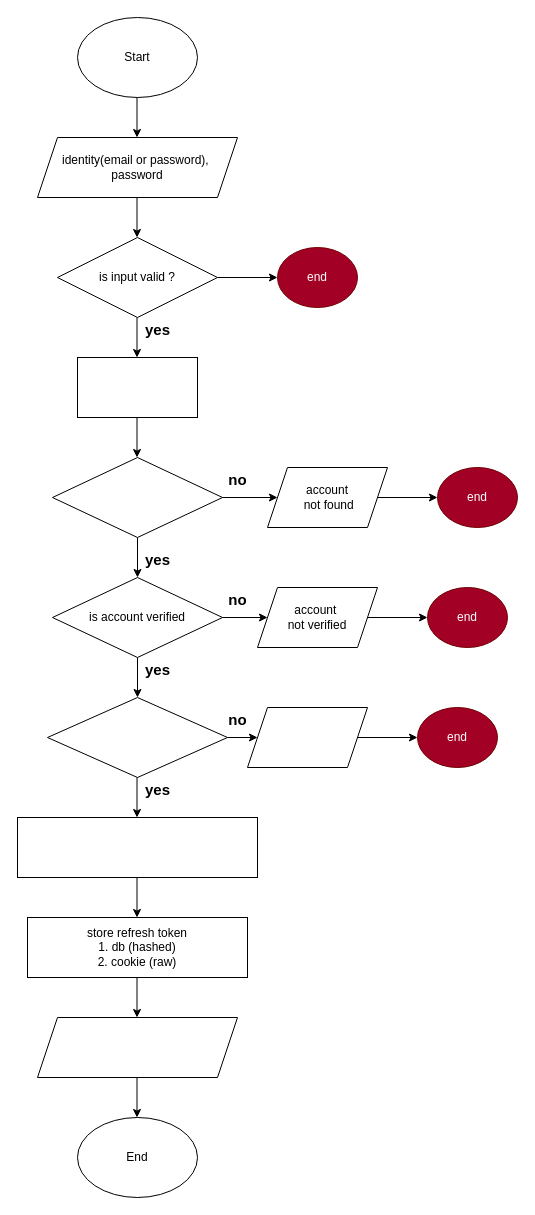
The diagram is 535 pixels wide and 1215 high, and some of its shapes have lost their labels. Here are the shapes that lost their labels. From the top down, the centre of each, then its label:
[137,387]: find account
[137,497]: is account found?
[137,737]: is Password match?
[307,737]: invalid credentials
[137,847]: generate : 1. accesstoken (jwt) 2. refreshToken (hashed random bytes)
[137,1047]: user and accessToken
